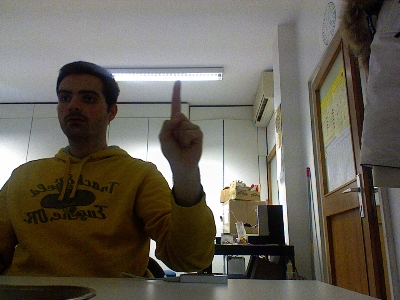食指: (155, 77, 205, 172)
